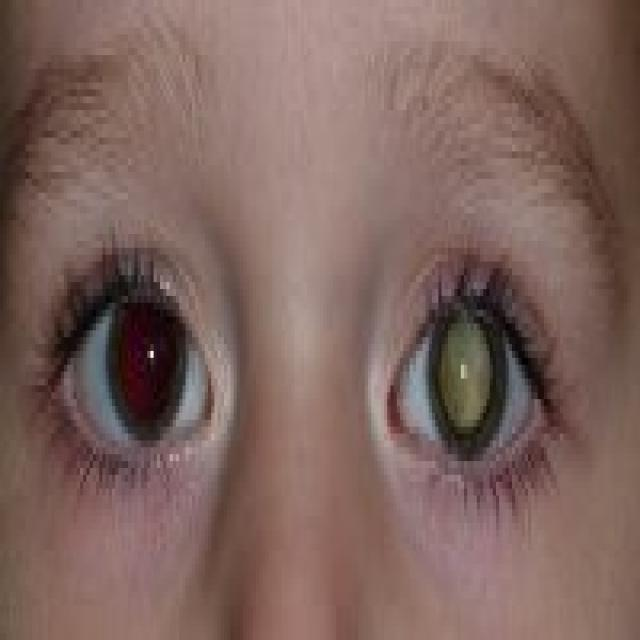reflexo-alterado: (404, 255, 514, 474)
reflexo-normal: (87, 255, 216, 487)
